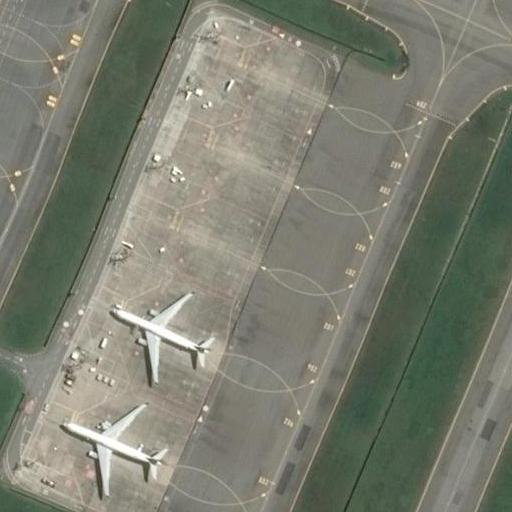Aircraft: (57, 403, 170, 495), (108, 290, 217, 381)
